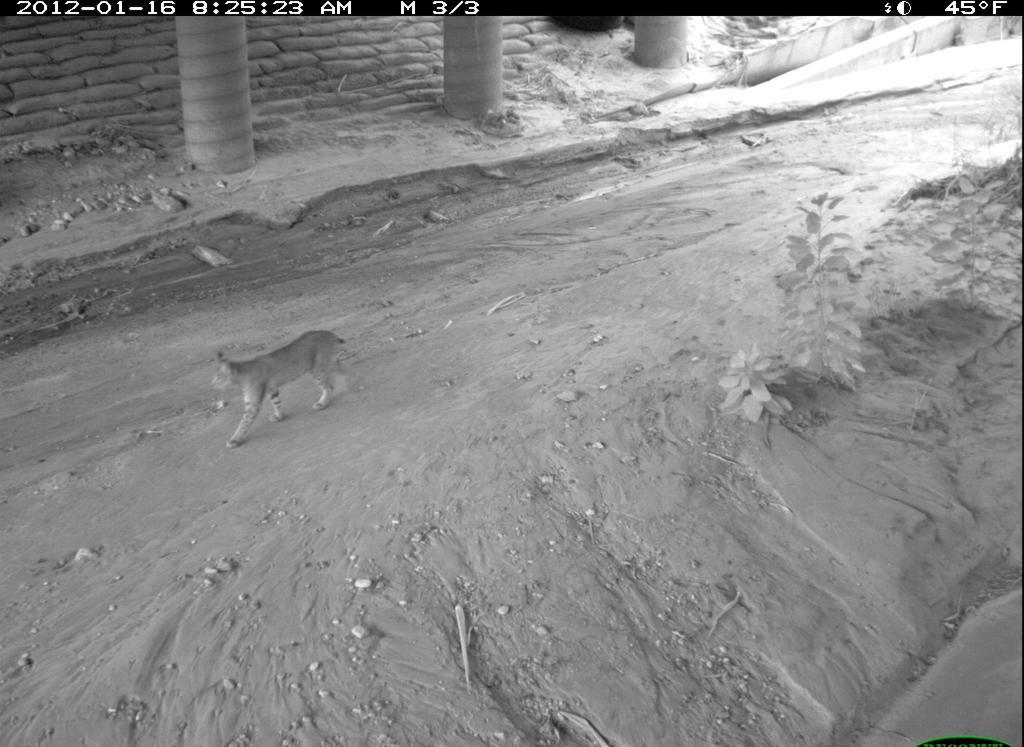bobcat: (193, 319, 354, 461)
